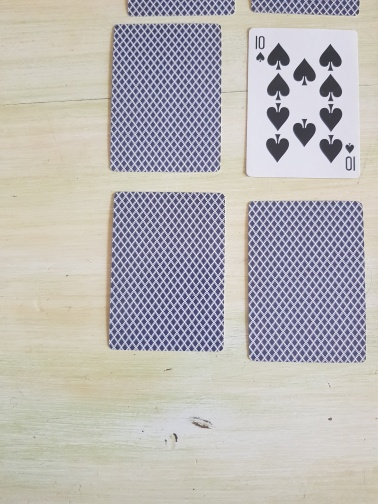ten: (244, 27, 362, 180)
